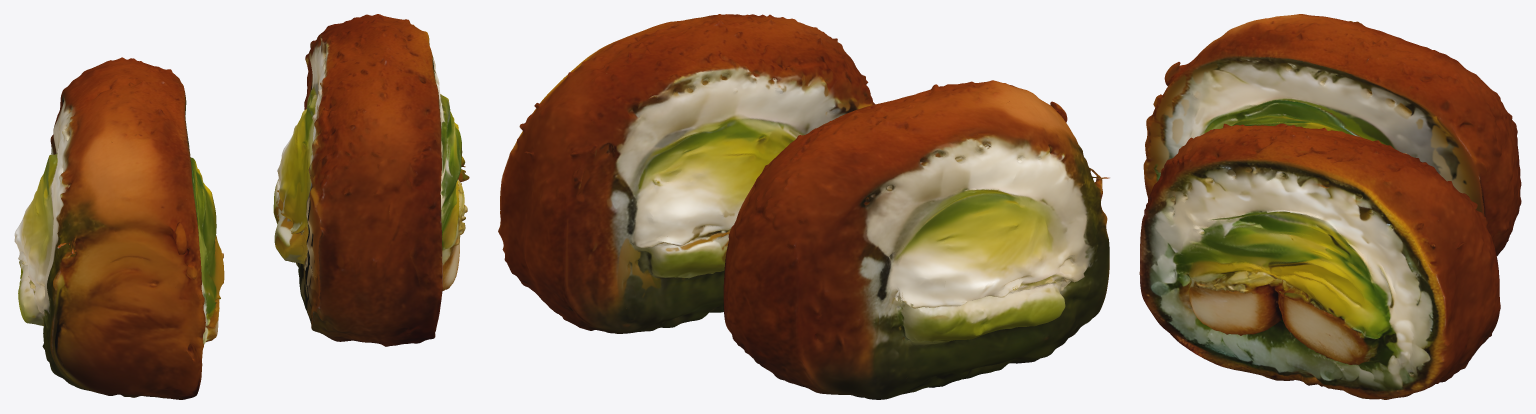
The model's file is Sushi Burger.glb.
3 renders of one model, left to right at view 1: azimuth 30°, elevation 25°; view 2: azimuth 150°, elevation 25°; view 3: azimuth 270°, elevation 25°, orthographic. The views are drawn at different scales.
Parts seen in each view (by area): view 1: model; view 2: model; view 3: model.
Boxes of the visible parts, x1,y1,x2,y2 form: model: (14,14,469,399); model: (498,14,1110,399); model: (1139,14,1521,399).
Size of the model in its own units: 1.9 by 0.9741 by 1.4.
1 material, 1 textured.
